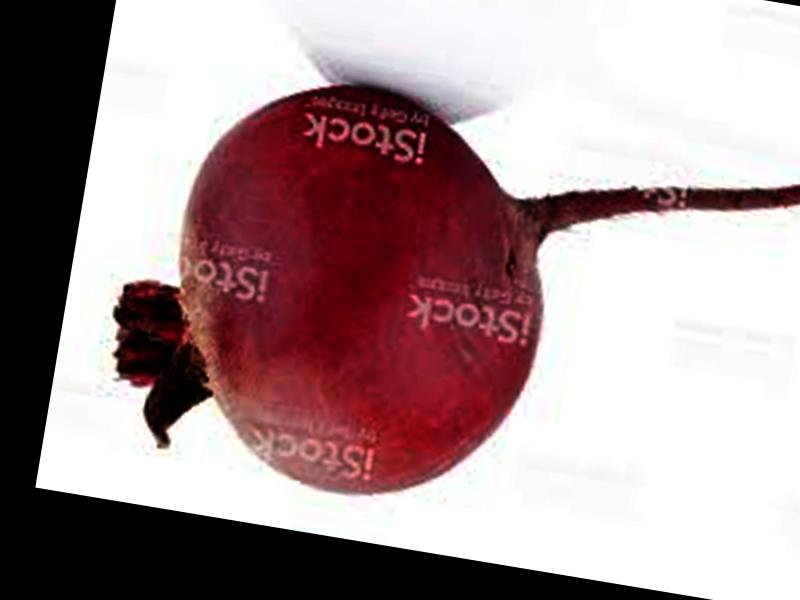Beet: (93, 53, 800, 564)
